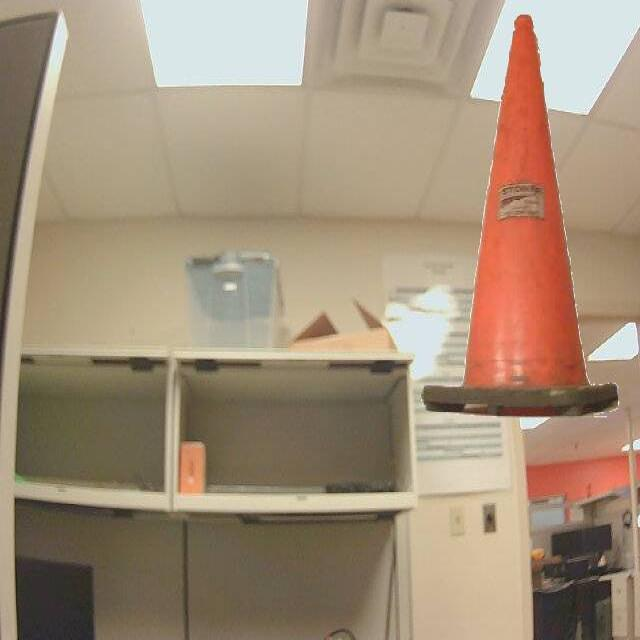traffic cone: (417, 10, 630, 426)
